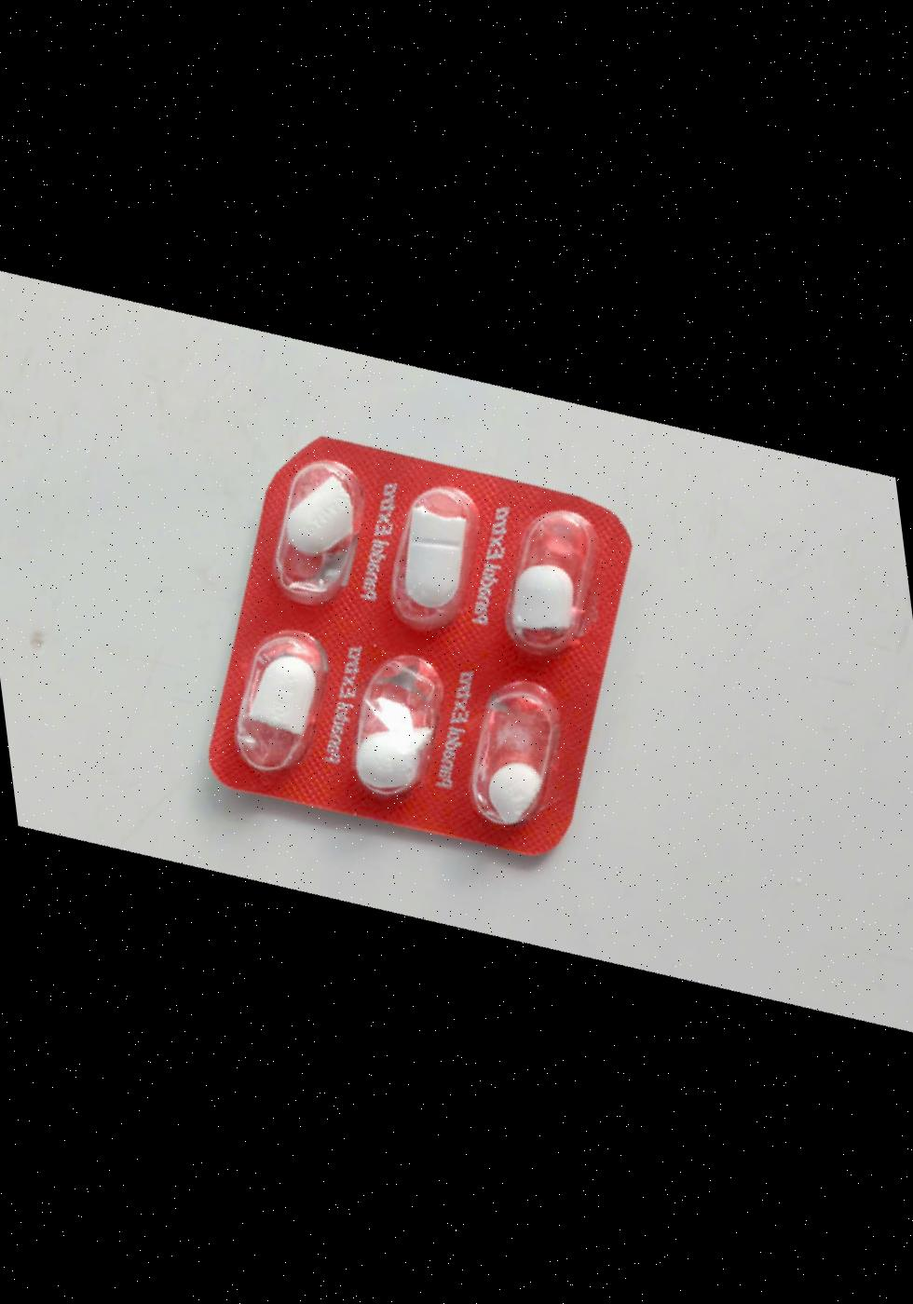Partial: (200, 608, 352, 806), (328, 627, 480, 825), (357, 446, 509, 644), (478, 486, 630, 684), (441, 658, 593, 856), (245, 429, 397, 627)
